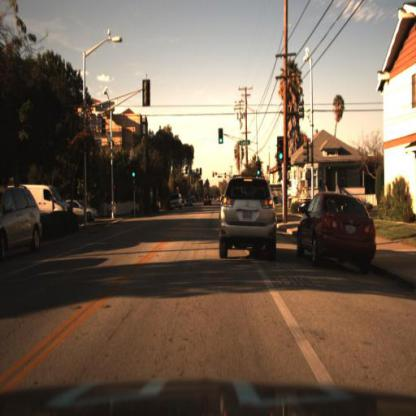car: (292, 181, 376, 276), (211, 163, 281, 267), (0, 182, 44, 262), (16, 181, 60, 214), (61, 196, 106, 218), (168, 190, 184, 212)
trafficLight-Green: (275, 134, 286, 166), (130, 159, 136, 184), (276, 146, 284, 164), (218, 125, 225, 145), (130, 166, 138, 182), (255, 164, 262, 180), (216, 134, 224, 147)
